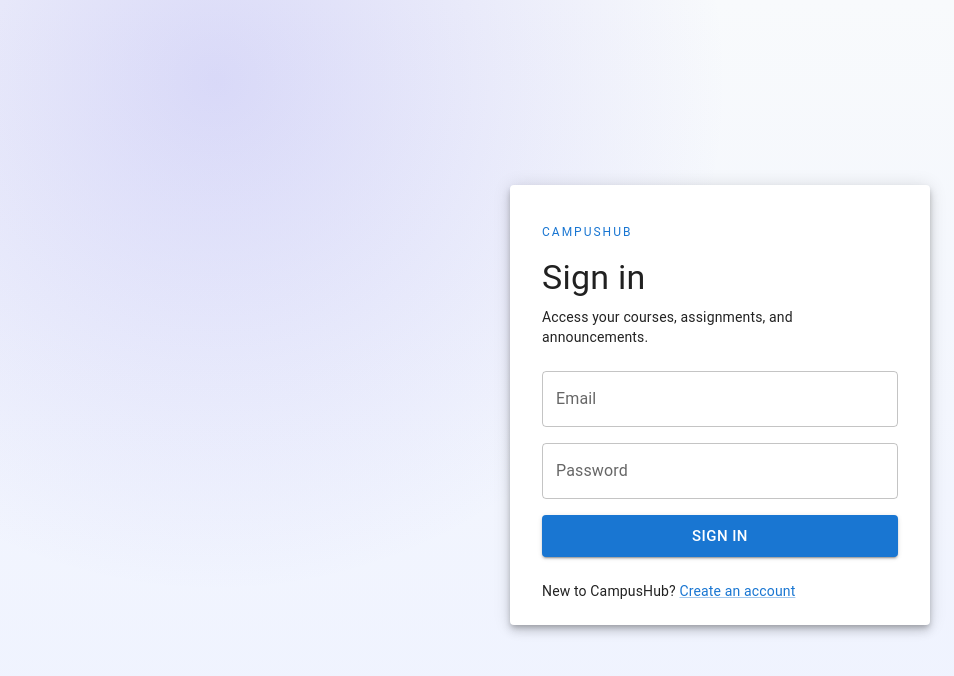
Test: LoginPage › validates required fields before submitting
Click the button "Sign in". click: (720, 536)
box: x1=542 y1=515 x2=898 y2=557
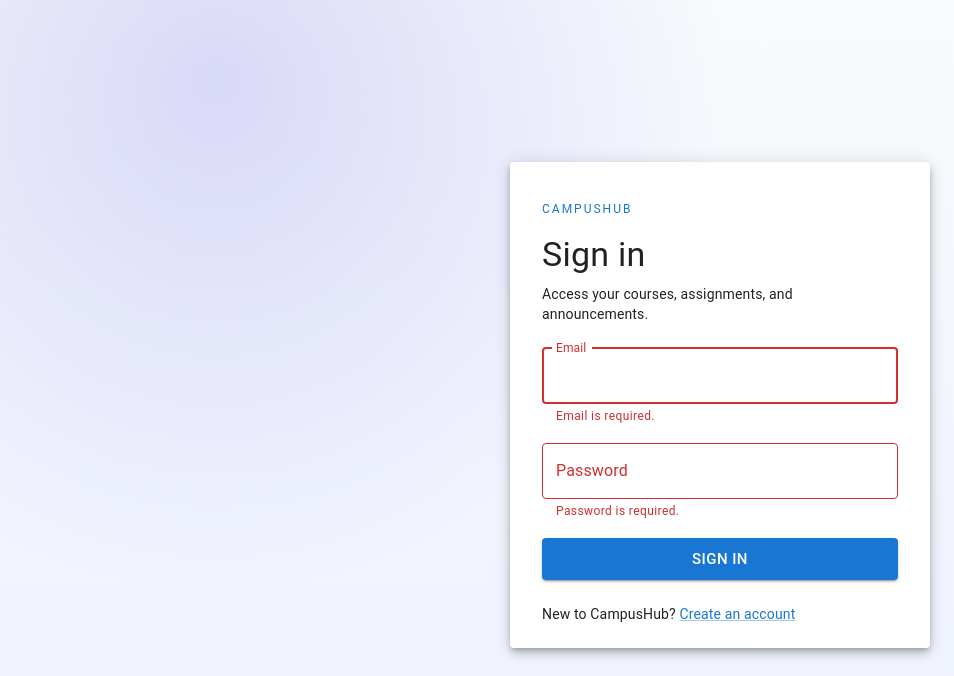
Expected: the text "Email is required." is shown, x1=556 y1=409 x2=655 y2=423
Expected: the text "Password is required." is shown, x1=556 y1=504 x2=679 y2=518
